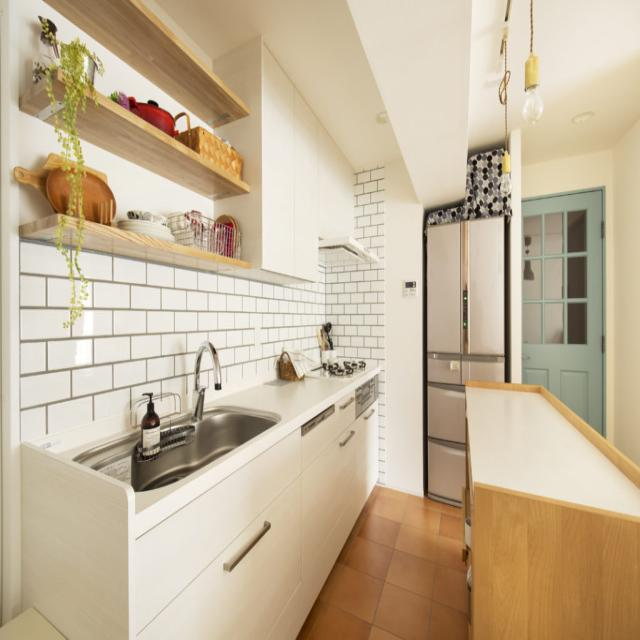modern shelf: (450, 357, 639, 640)
